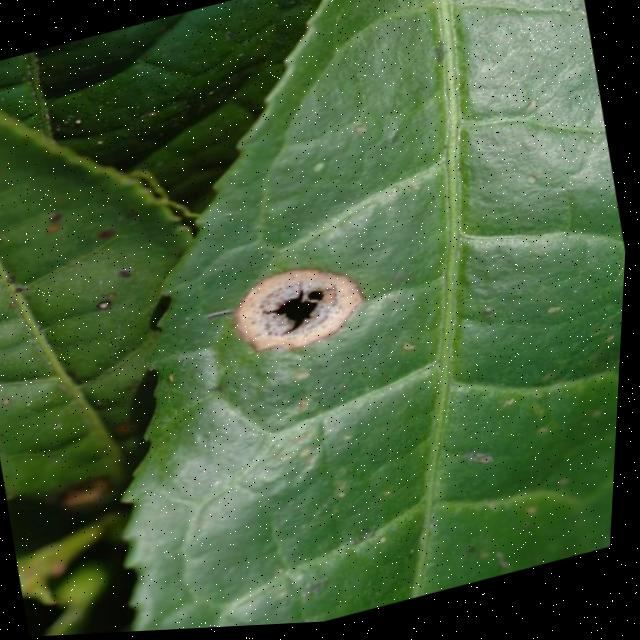Tea cloud leaf blight: (226, 241, 384, 376)
